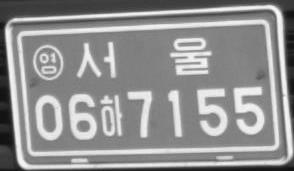0: (34, 93, 63, 141)
1: (163, 89, 191, 137)
5: (195, 87, 228, 137), (232, 85, 265, 135)
6: (67, 92, 97, 141)
7: (126, 89, 153, 138)
서울_D: (76, 36, 212, 79)
영: (32, 43, 63, 81)
하: (99, 94, 123, 137)
